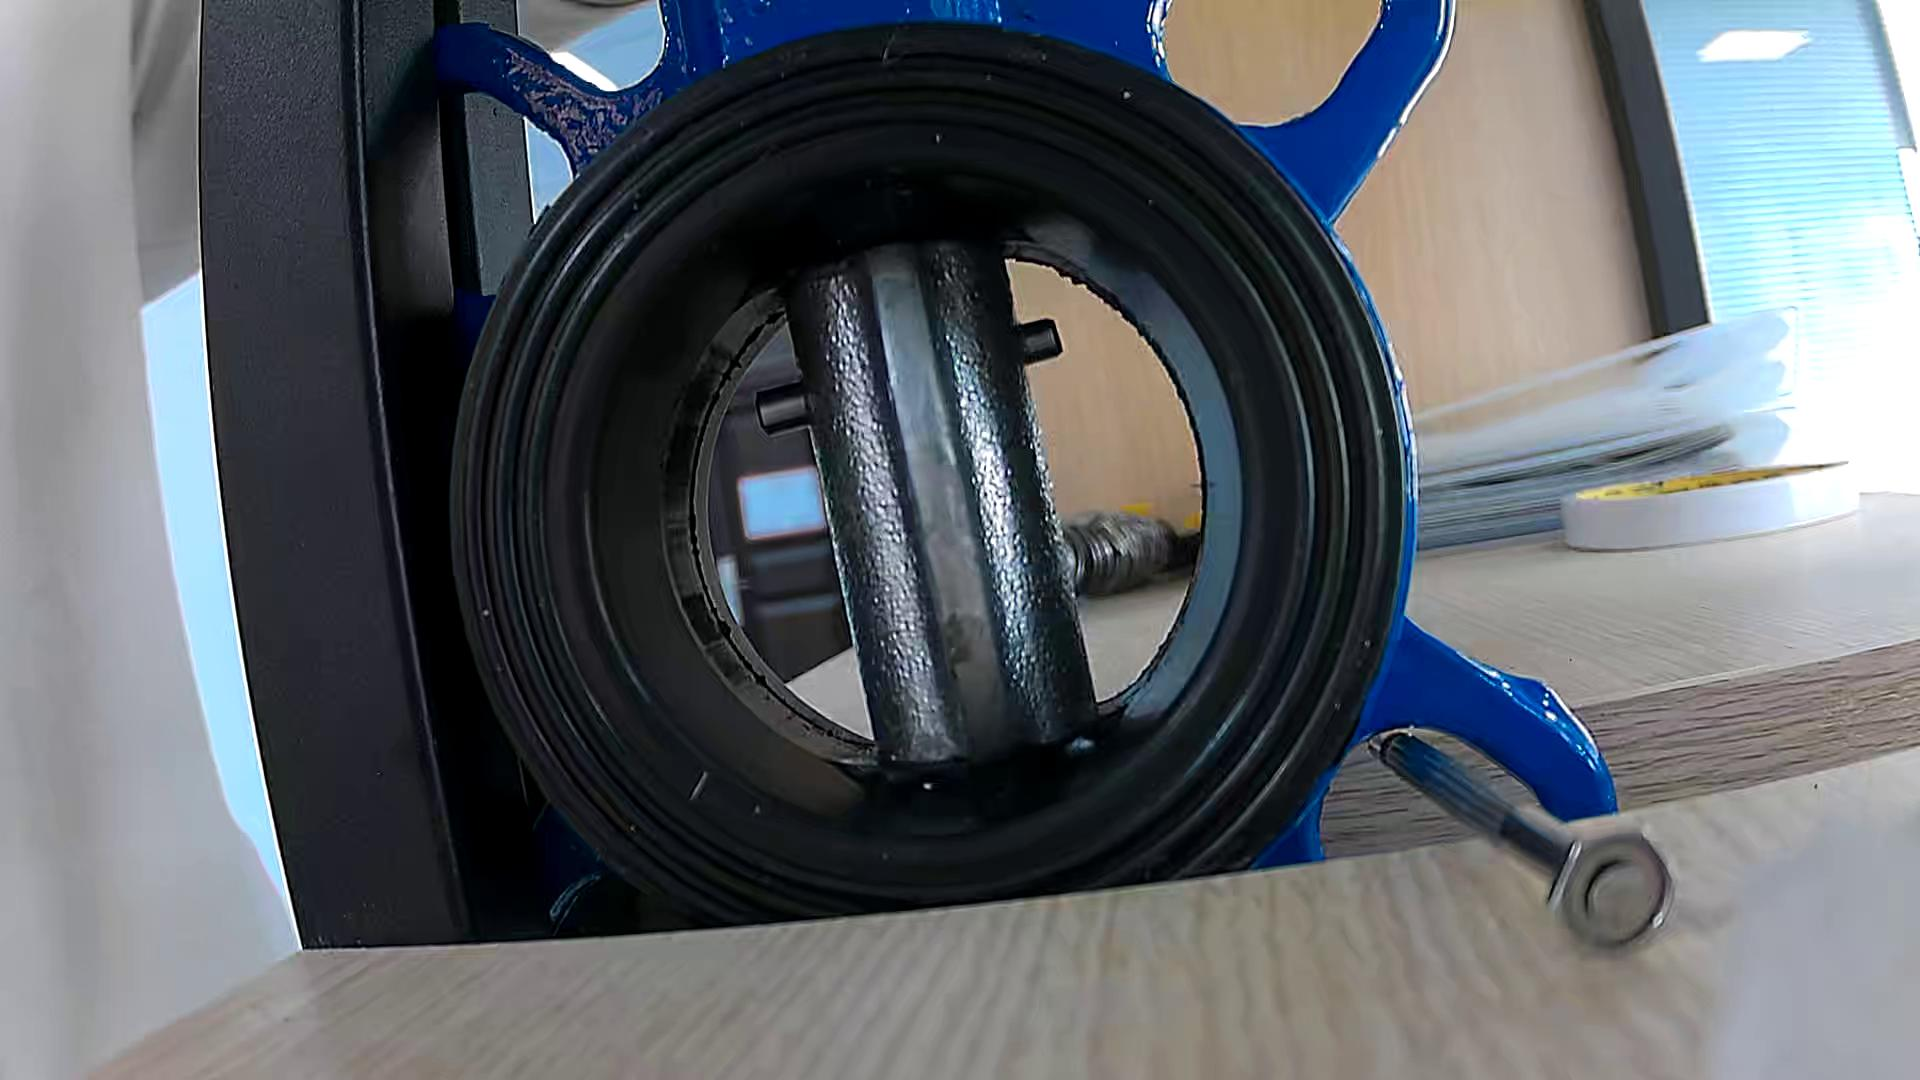valve: (787, 240, 1095, 765)
